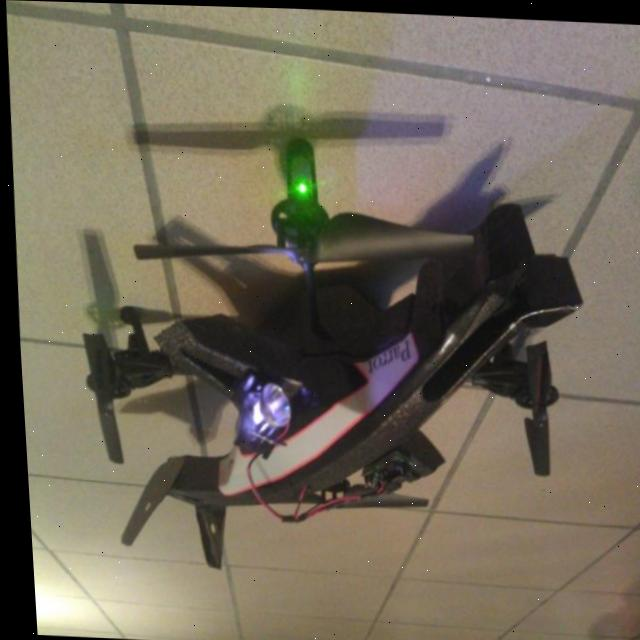drones: (45, 122, 601, 610)
